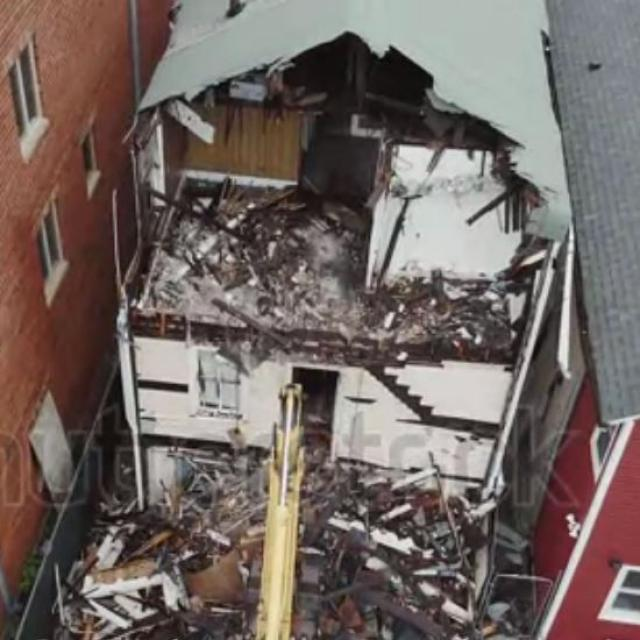collapsed_building: (129, 25, 545, 625)
